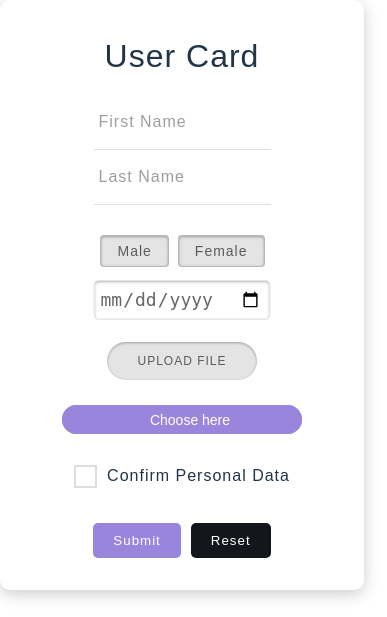
test for Form component › have any errors appeared on the page
Click the button with test id "submit" at (137, 541), box [93,523,181,558]
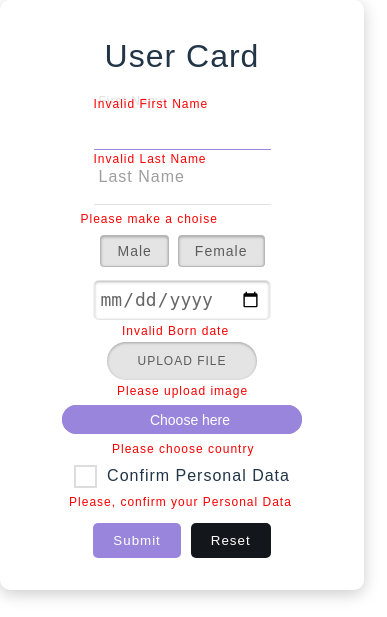
Expected: the text "Invalid First Name" is shown, [94,95,208,113]
Expected: the text "Invalid Last Name" is shown, [94,150,206,168]
Expected: the text "Please make a choise" is shown, [80,210,218,228]
